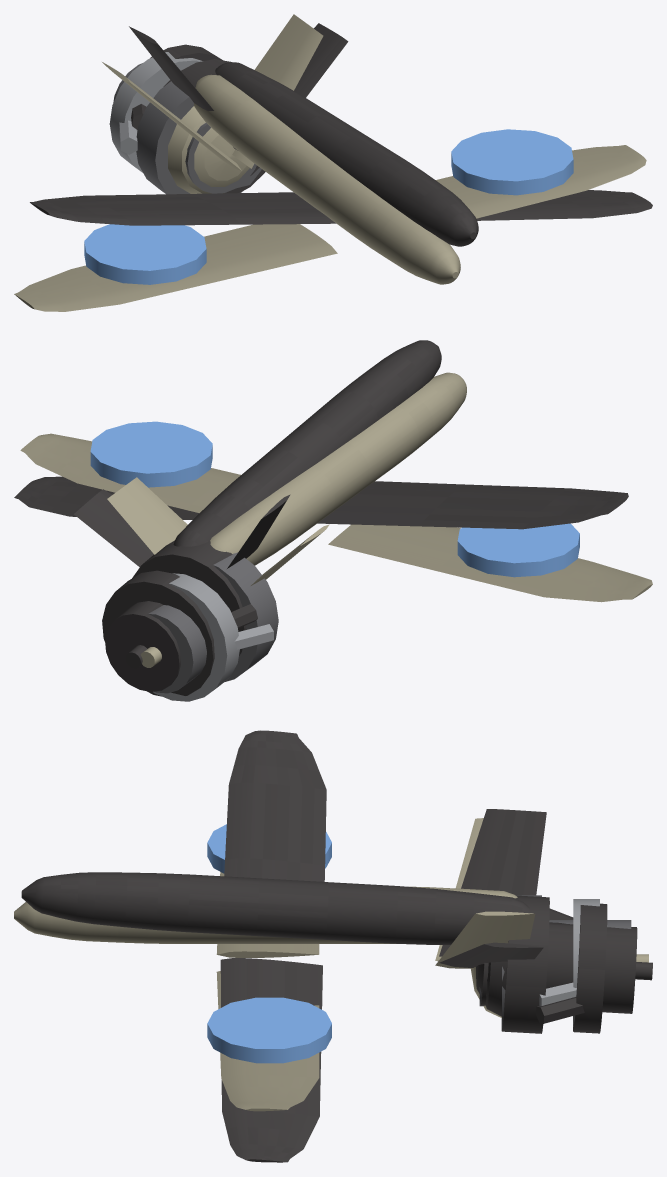
File: loiterer__warmate_3.glb
3 views of the same model, one above another, from view 1: azimuth 30°, elevation 25°; view 2: azimuth 150°, elevation 25°; view 3: azimuth 270°, elevation 25° (orthographic).
Visible parts, largest first — view 1: Fuselage_Mesh, Wreck, Propeller_Mesh; view 2: Fuselage_Mesh, Wreck, Propeller_Mesh; view 3: Wreck, Fuselage_Mesh, Propeller_Mesh.
Part boxes in pixels (bbox=[...]): Fuselage_Mesh: bbox=[14, 14, 646, 311]; Wreck: bbox=[30, 23, 652, 246]; Propeller_Mesh: bbox=[109, 52, 261, 194]; Fuselage_Mesh: bbox=[20, 372, 652, 602]; Wreck: bbox=[14, 340, 628, 696]; Propeller_Mesh: bbox=[140, 552, 278, 701]; Wreck: bbox=[21, 730, 652, 1162]; Fuselage_Mesh: bbox=[14, 818, 535, 1111]; Propeller_Mesh: bbox=[471, 895, 648, 1027].
Size of what is drawn, in the model's own units: 1.62 by 0.4599 by 1.43.
